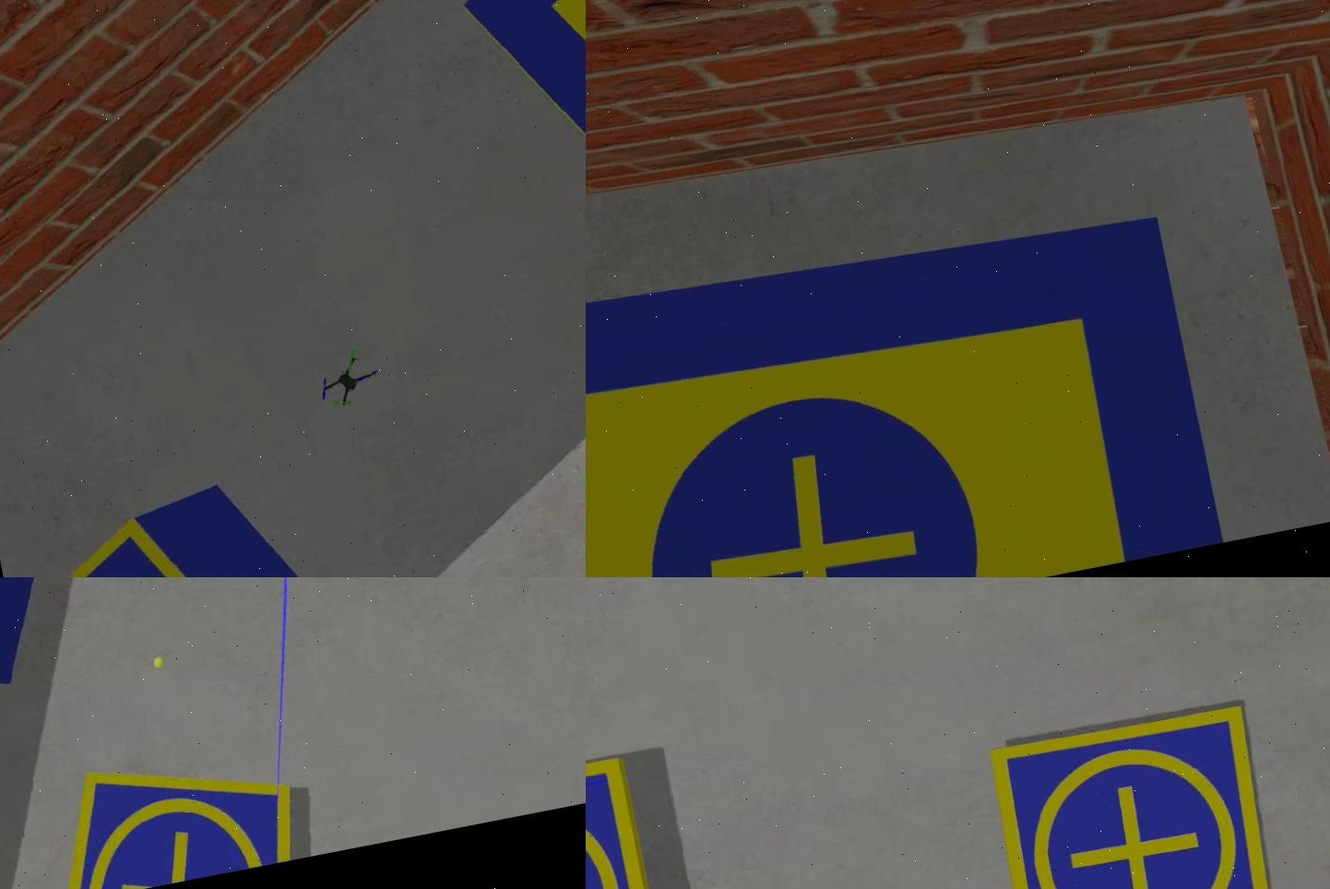large_base: (584, 184, 1226, 578)
small_base: (982, 697, 1293, 889), (36, 732, 300, 889), (0, 498, 299, 578)
